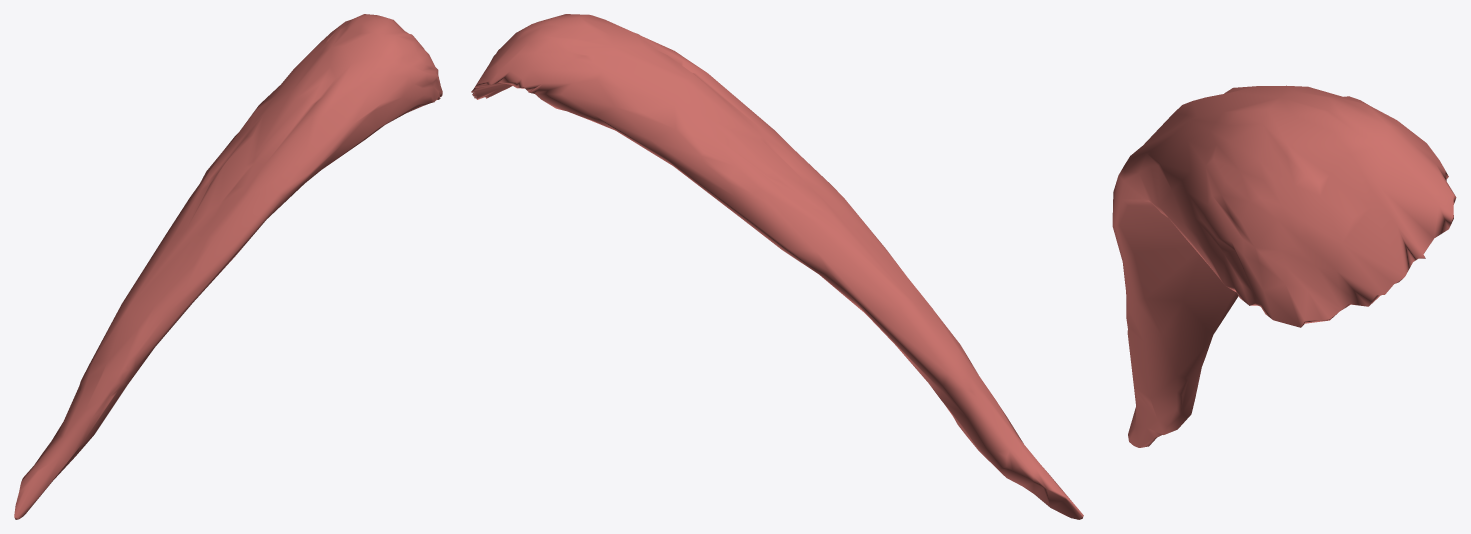
3 renders of one model, left to right at view 1: azimuth 30°, elevation 25°; view 2: azimuth 150°, elevation 25°; view 3: azimuth 270°, elevation 25°, orthographic. The views are drawn at different scales.
Visible parts, largest first — view 1: 右侧下孖肌; view 2: 右侧下孖肌; view 3: 右侧下孖肌.
Part boxes in pixels (box(x1,y1,x2,y2)): 右侧下孖肌: box(14, 14, 442, 519); 右侧下孖肌: box(471, 14, 1083, 519); 右侧下孖肌: box(1112, 85, 1456, 447).
Size of the model in its own units: 0.1073 by 0.08 by 0.0342.
